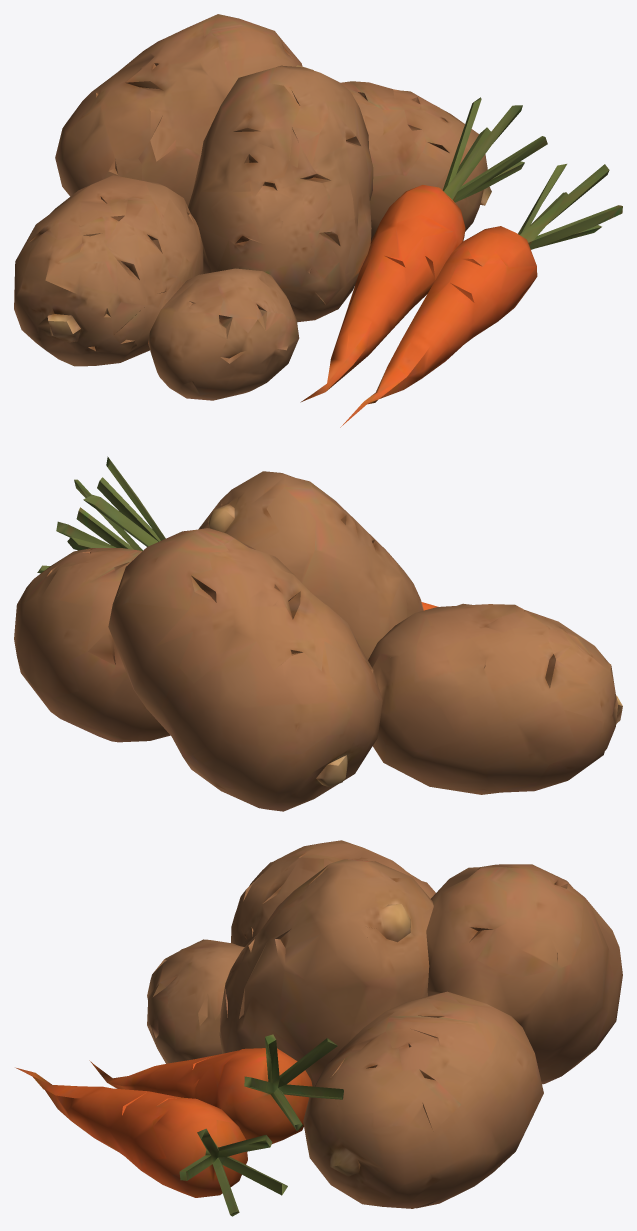
The model's file is veg_potato_kartofel_idle.glb.
3 views of the same model, one above another, from view 1: azimuth 30°, elevation 25°; view 2: azimuth 150°, elevation 25°; view 3: azimuth 270°, elevation 25° (orthographic). The views are drawn at different scales.
Visible parts, largest first — view 1: tripo_node_024f620b-737a-4c34-8ccb-ac862215e257; view 2: tripo_node_024f620b-737a-4c34-8ccb-ac862215e257; view 3: tripo_node_024f620b-737a-4c34-8ccb-ac862215e257.
Part boxes in pixels (box(x1,y1,x2,y2)): tripo_node_024f620b-737a-4c34-8ccb-ac862215e257: box(14, 14, 622, 427); tripo_node_024f620b-737a-4c34-8ccb-ac862215e257: box(14, 456, 622, 811); tripo_node_024f620b-737a-4c34-8ccb-ac862215e257: box(15, 840, 622, 1216).
Size of the model in its own units: 0.08 by 0.0352 by 0.0688.
Materials: 1 (1 with a texture image).
